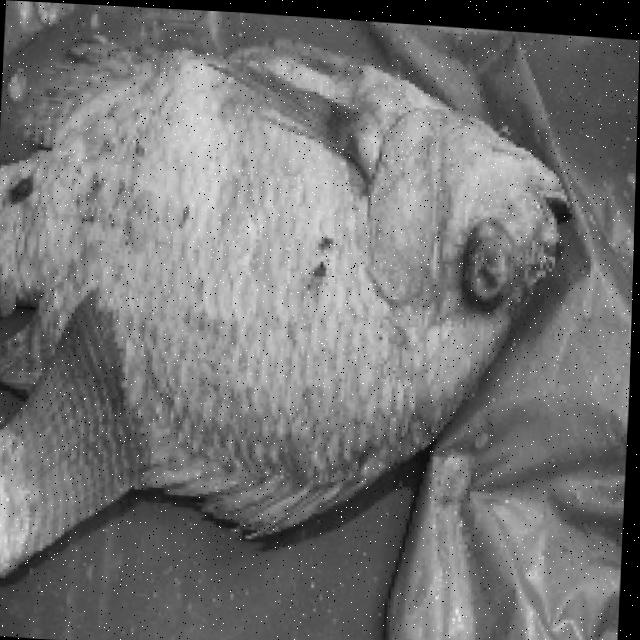Non-Fresh: (0, 64, 559, 459), (451, 208, 543, 318)
